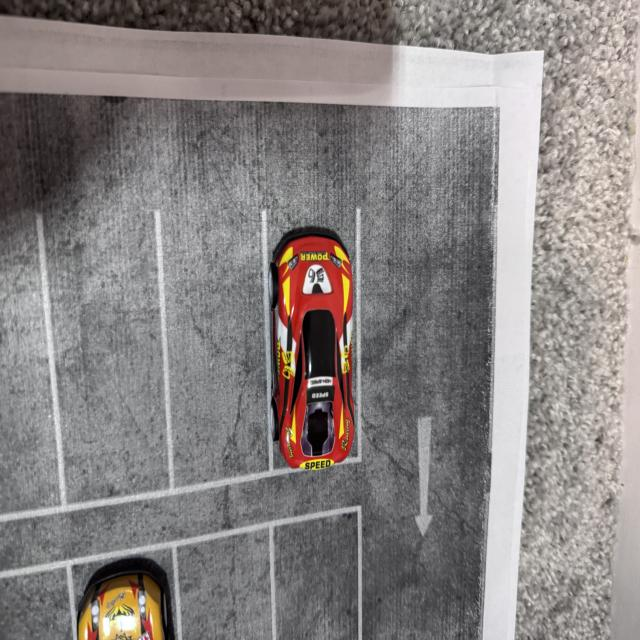car: (260, 211, 391, 530)
